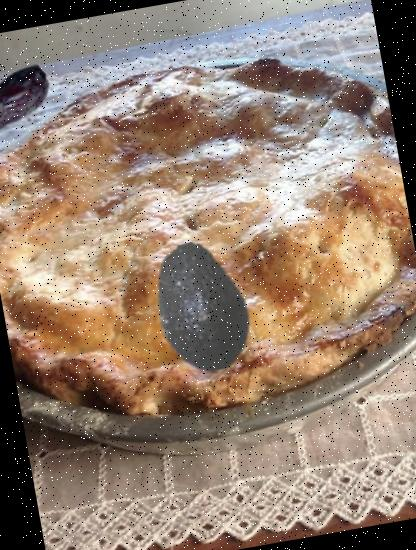Avocado: (126, 230, 279, 383)
Dates: (0, 50, 62, 151)
